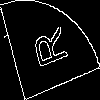R: (25, 25, 69, 74)
